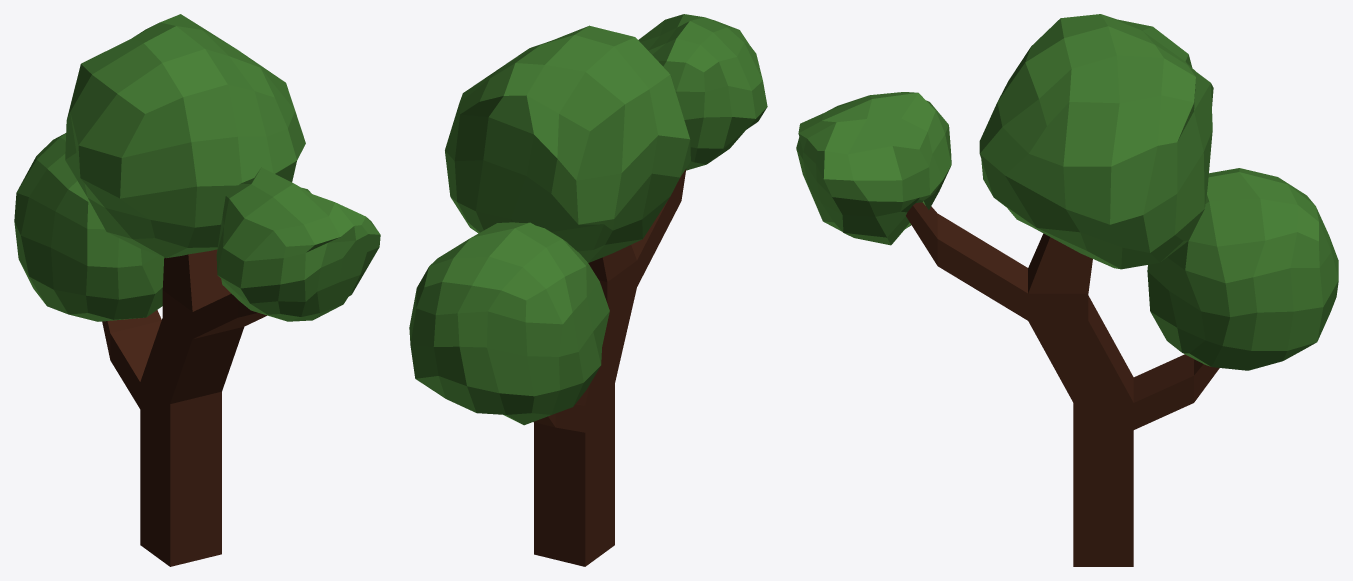
Rendered from TreeExample2_left.fbx.
The picture shows the model from 3 angles, left to right: view 1: azimuth 30°, elevation 25°; view 2: azimuth 150°, elevation 25°; view 3: azimuth 270°, elevation 25°; orthographic projection.
Parts seen in each view (by area): view 1: Tree.005; view 2: Tree.005; view 3: Tree.005.
Part boxes in pixels (x1,y1,x2,y2): Tree.005: [14, 14, 380, 566]; Tree.005: [409, 14, 767, 566]; Tree.005: [796, 14, 1338, 566].
Bounding box in the file's own units: 441 × 963 × 899.
